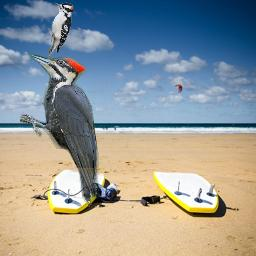Woodpecker: (20, 53, 104, 207), (48, 0, 75, 59)
